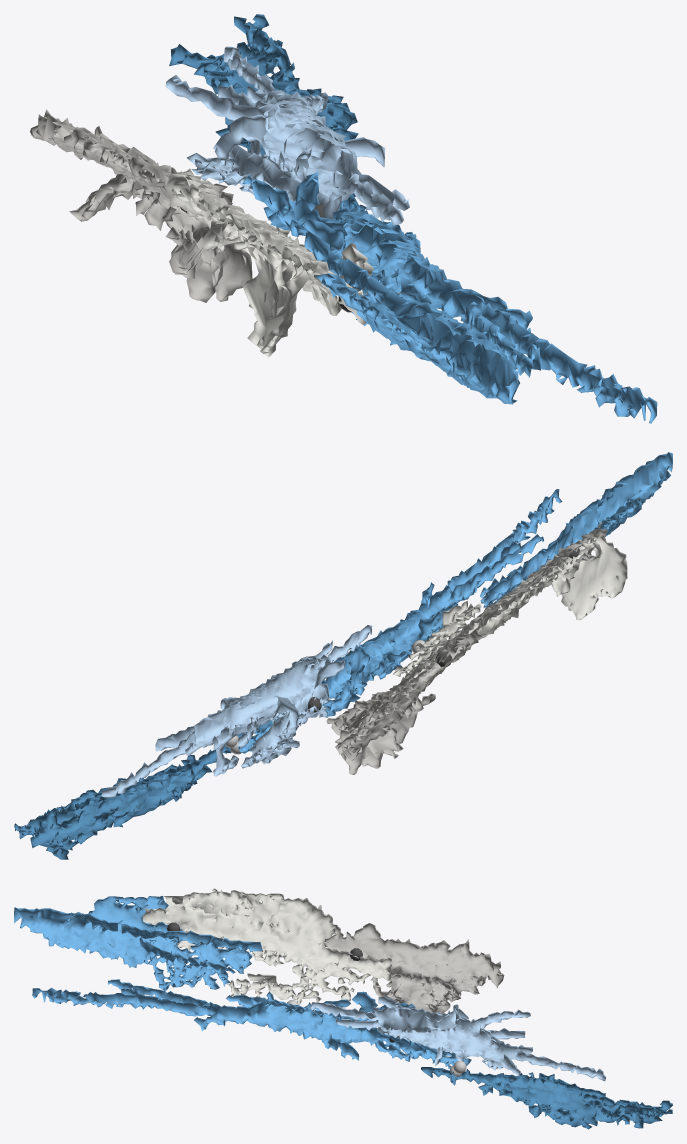
File: sample_3_1_group_2.glb
The picture shows the model from 3 angles, top to bottom: view 1: azimuth 30°, elevation 25°; view 2: azimuth 150°, elevation 25°; view 3: azimuth 270°, elevation 25°; orthographic projection. The views are drawn at different scales.
Visible parts, largest first — view 1: osteocyte_19_elongated, osteocyte_16_elongated, osteocyte_26_untyped, osteocyte_41_untyped, osteocyte_43_elongated, osteocyte_1_elongated; view 2: osteocyte_19_elongated, osteocyte_16_elongated, osteocyte_41_untyped, osteocyte_1_elongated, osteocyte_26_untyped, osteocyte_43_elongated; view 3: osteocyte_41_untyped, osteocyte_43_elongated, osteocyte_16_elongated, osteocyte_19_elongated, osteocyte_26_untyped, osteocyte_1_elongated.
Part boxes in pixels (bbox=[...]): osteocyte_19_elongated: bbox=[165, 46, 409, 225]; osteocyte_16_elongated: bbox=[242, 171, 657, 423]; osteocyte_26_untyped: bbox=[30, 109, 252, 302]; osteocyte_41_untyped: bbox=[163, 167, 400, 357]; osteocyte_43_elongated: bbox=[304, 230, 519, 404]; osteocyte_1_elongated: bbox=[169, 14, 366, 211]; osteocyte_19_elongated: bbox=[101, 625, 372, 797]; osteocyte_16_elongated: bbox=[237, 489, 562, 753]; osteocyte_41_untyped: bbox=[392, 522, 627, 679]; osteocyte_1_elongated: bbox=[14, 733, 253, 859]; osteocyte_26_untyped: bbox=[326, 629, 481, 774]; osteocyte_43_elongated: bbox=[480, 452, 672, 607]; osteocyte_41_untyped: bbox=[142, 888, 391, 1005]; osteocyte_43_elongated: bbox=[14, 896, 262, 991]; osteocyte_16_elongated: bbox=[32, 979, 471, 1068]; osteocyte_19_elongated: bbox=[309, 996, 606, 1081]; osteocyte_26_untyped: bbox=[325, 923, 504, 1057]; osteocyte_1_elongated: bbox=[421, 1067, 672, 1129].
Bounding box in the file's own units: 51.36 × 24.82 × 118.
